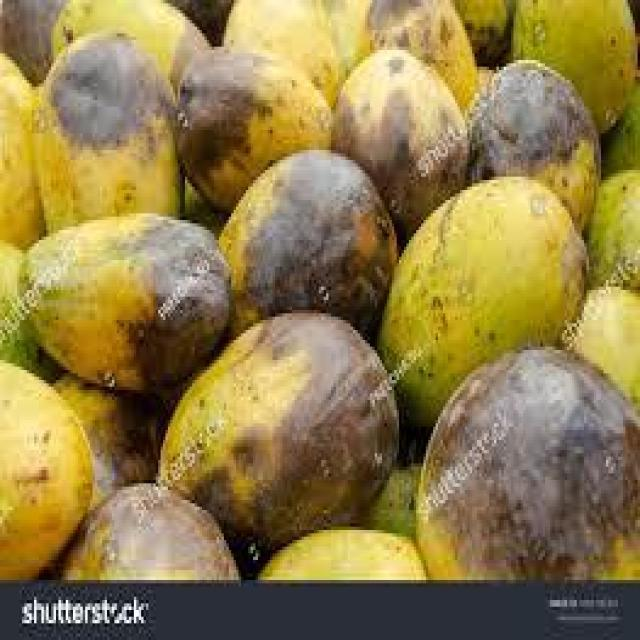Mango: (156, 312, 409, 562), (378, 172, 594, 441), (417, 345, 640, 582), (18, 208, 230, 390), (218, 148, 398, 328), (33, 32, 184, 235), (174, 47, 332, 208), (466, 61, 604, 232), (332, 48, 473, 202), (0, 354, 91, 579), (508, 0, 635, 136), (60, 486, 247, 578), (264, 519, 426, 581)
